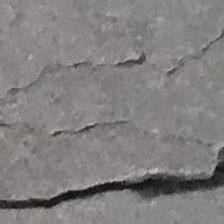Crack: (0, 119, 224, 224)
